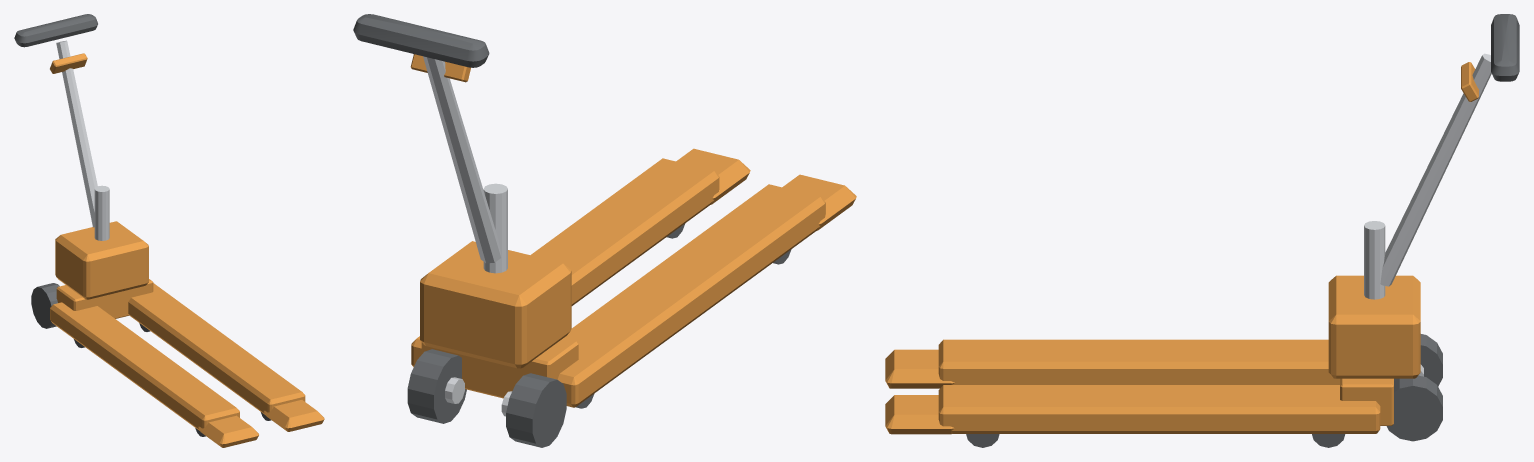
The model's file is hand-pallet-truck-2.glb.
3 renders of one model, left to right at view 1: azimuth 30°, elevation 25°; view 2: azimuth 150°, elevation 25°; view 3: azimuth 270°, elevation 25°, orthographic. The views are drawn at different scales.
Parts seen in each view (by area): view 1: pallet-truck; view 2: pallet-truck; view 3: pallet-truck.
Boxes of the visible parts, bbox=[...] form: pallet-truck: bbox=[14, 14, 324, 447]; pallet-truck: bbox=[353, 14, 856, 447]; pallet-truck: bbox=[885, 14, 1519, 447].
Bounding box in the file's own units: 0.4481 × 1.1 × 1.65.
